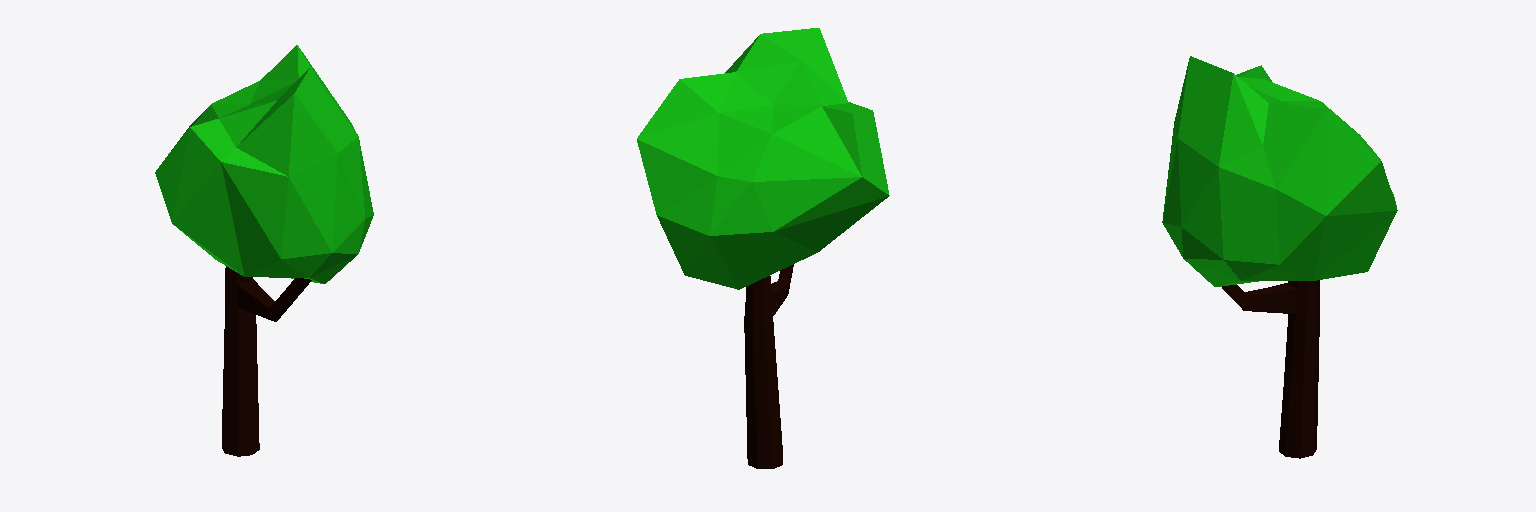
The model's file is tree.obj.
The picture shows the model from 3 angles: view 1: azimuth 30°, elevation 25°; view 2: azimuth 150°, elevation 25°; view 3: azimuth 270°, elevation 25°; orthographic projection.
Parts seen in each view (by area): view 1: Cilindro.141_Cilindro.000; view 2: Cilindro.141_Cilindro.000; view 3: Cilindro.141_Cilindro.000.
Boxes of the visible parts, x1,y1,x2,y2 form: Cilindro.141_Cilindro.000: [155, 45, 373, 456]; Cilindro.141_Cilindro.000: [637, 28, 889, 468]; Cilindro.141_Cilindro.000: [1162, 56, 1397, 458].
Size of the model in its own units: 2.7 by 4.95 by 2.67.